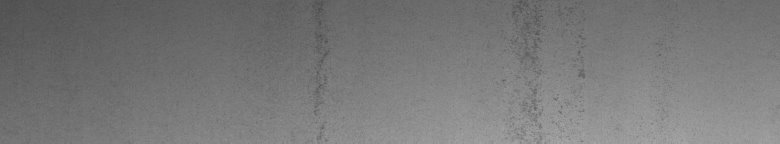ib: (508, 4, 586, 135)
